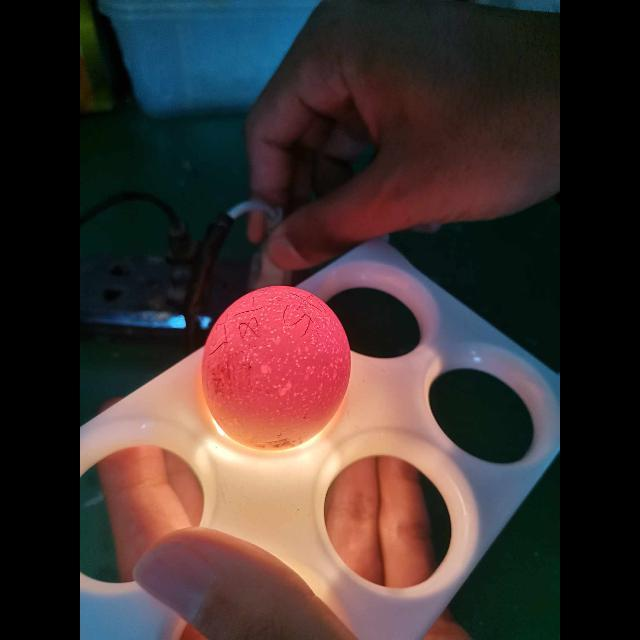Infertile: (198, 284, 348, 441)
